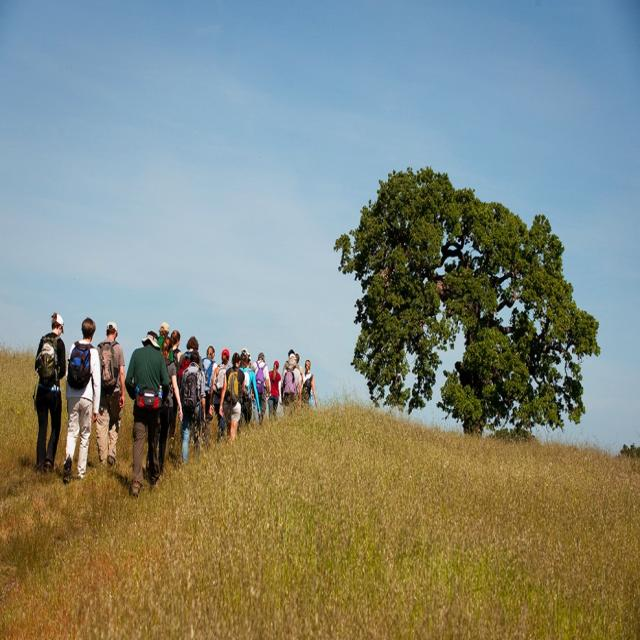body: (123, 328, 172, 499), (61, 314, 102, 484), (31, 310, 68, 474), (144, 334, 184, 478), (94, 318, 127, 473), (178, 348, 207, 468), (218, 349, 246, 453), (208, 347, 232, 446), (238, 348, 262, 426), (168, 329, 183, 442), (251, 352, 270, 428), (176, 335, 203, 388), (201, 344, 219, 422), (280, 352, 303, 409), (267, 359, 284, 422), (301, 359, 318, 410), (156, 320, 174, 362), (280, 348, 296, 378), (295, 352, 304, 395), (244, 351, 253, 369)
